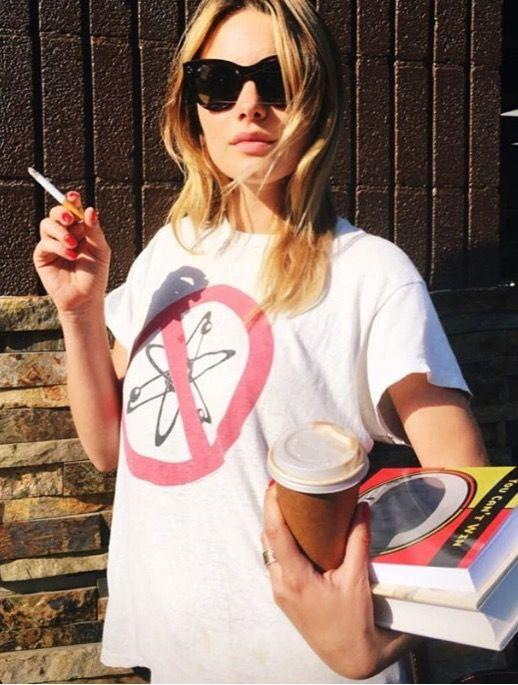cigarette: (28, 167, 85, 221)
